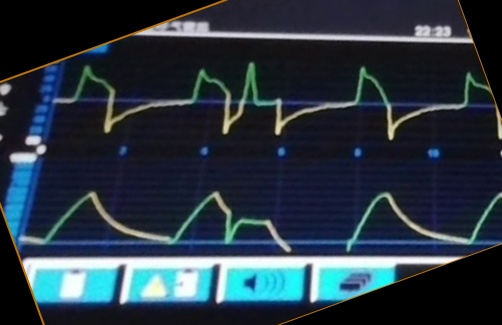Double_Triggering Flow: (63, 61, 494, 140)
Double_Triggering Volume: (32, 186, 500, 252)
